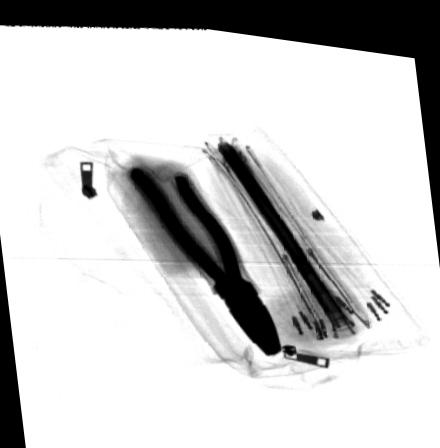Pliers: (127, 163, 285, 349)
